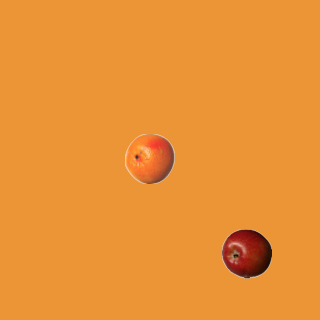Apple Braeburn: (221, 228, 271, 278)
Grapefruit Pink: (124, 133, 174, 183)
